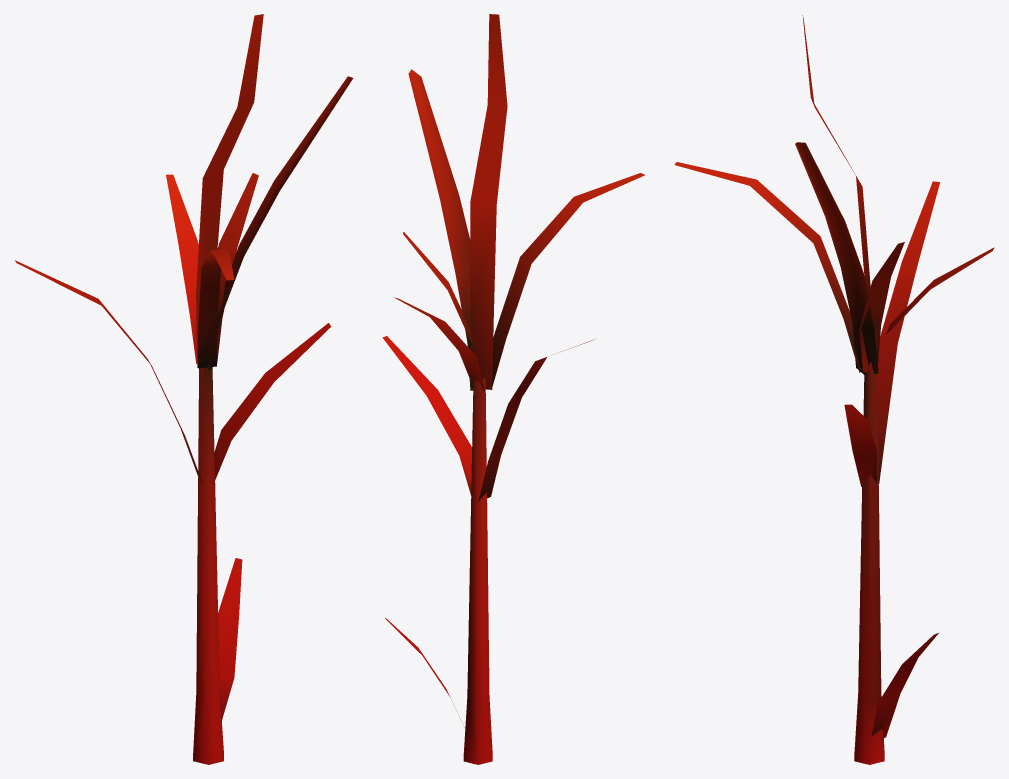
The model's file is SM_SugarCanePlants_4.fbx.
3 renders of one model, left to right at view 1: azimuth 30°, elevation 25°; view 2: azimuth 150°, elevation 25°; view 3: azimuth 270°, elevation 25°, orthographic. The views are drawn at different scales.
Parts seen in each view (by area): view 1: SM_SugarCanePlants_4; view 2: SM_SugarCanePlants_4; view 3: SM_SugarCanePlants_4.
Boxes of the visible parts, <box> form: SM_SugarCanePlants_4: <box>15,14,353,764</box>; SM_SugarCanePlants_4: <box>382,14,644,764</box>; SM_SugarCanePlants_4: <box>674,15,994,764</box>.
Bounding box in the file's own units: 0.2864 × 0.7723 × 0.2993.
